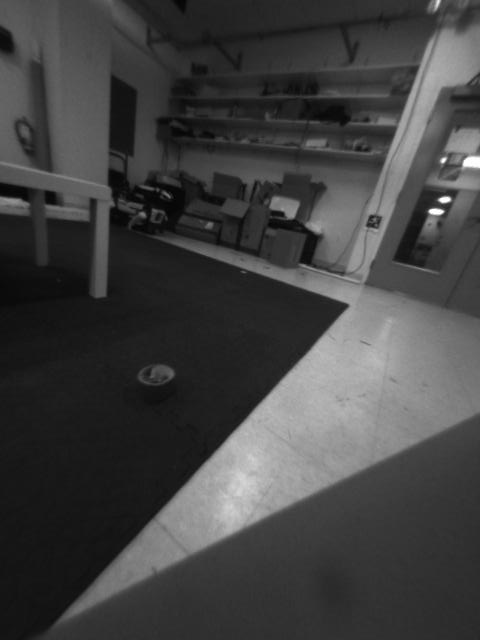dogtoy: (126, 354, 184, 402)
